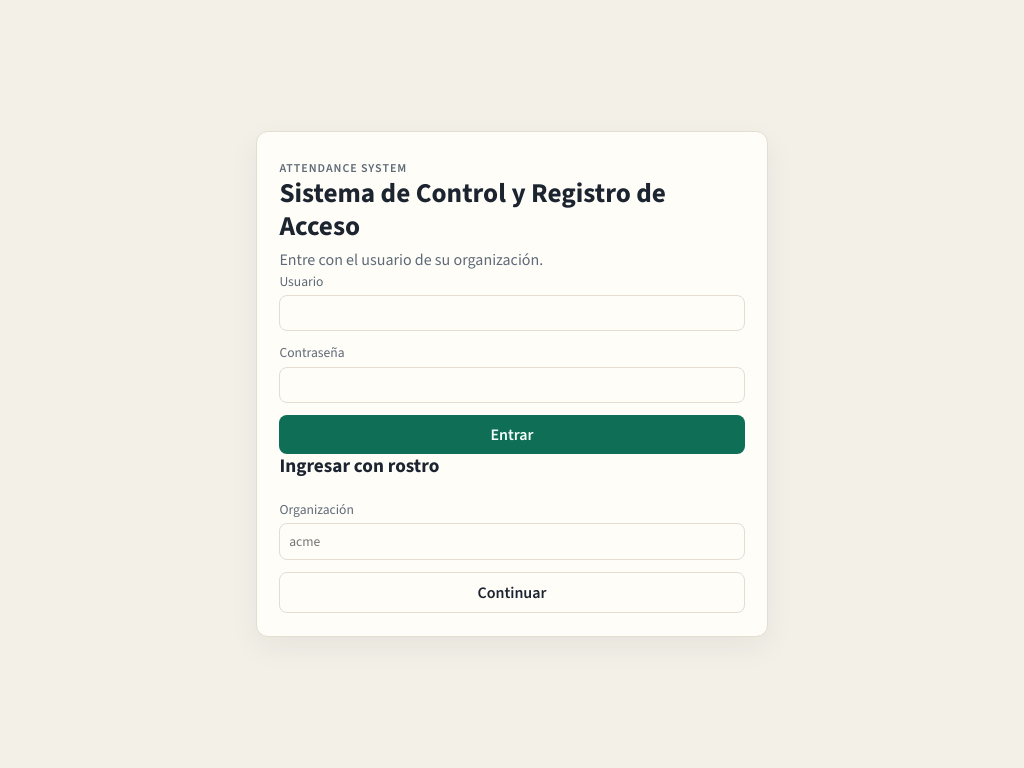
muestra el panel tras un ingreso válido
Type "acme.operator" into the field labelled "Usuario" at (512,313), box [279,295,745,331]
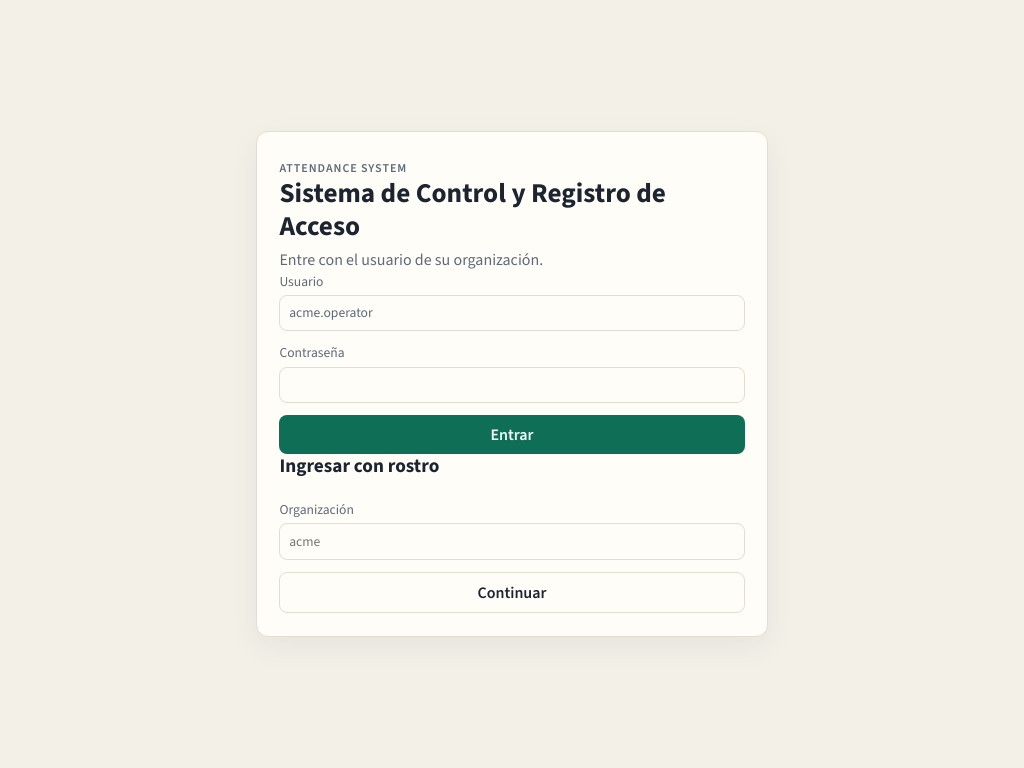
Type "secreta" into the password field labelled "Contraseña" at (512,385), box [279,367,745,403]
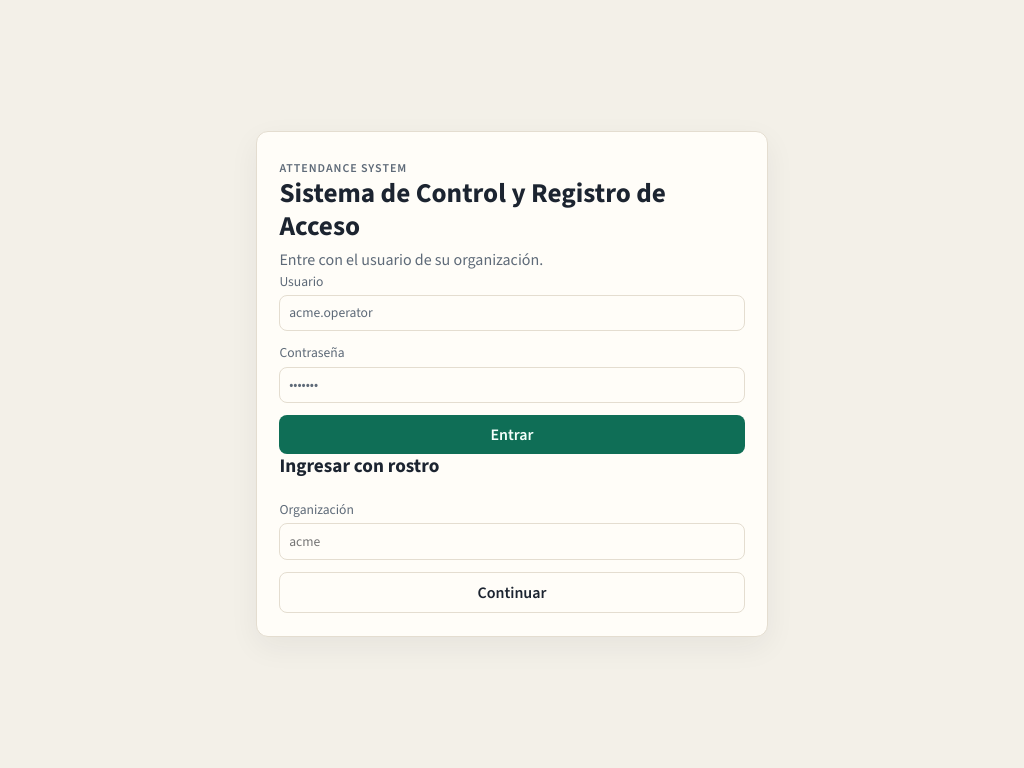
Click the button "Entrar" at (512,435), box [279,415,745,454]
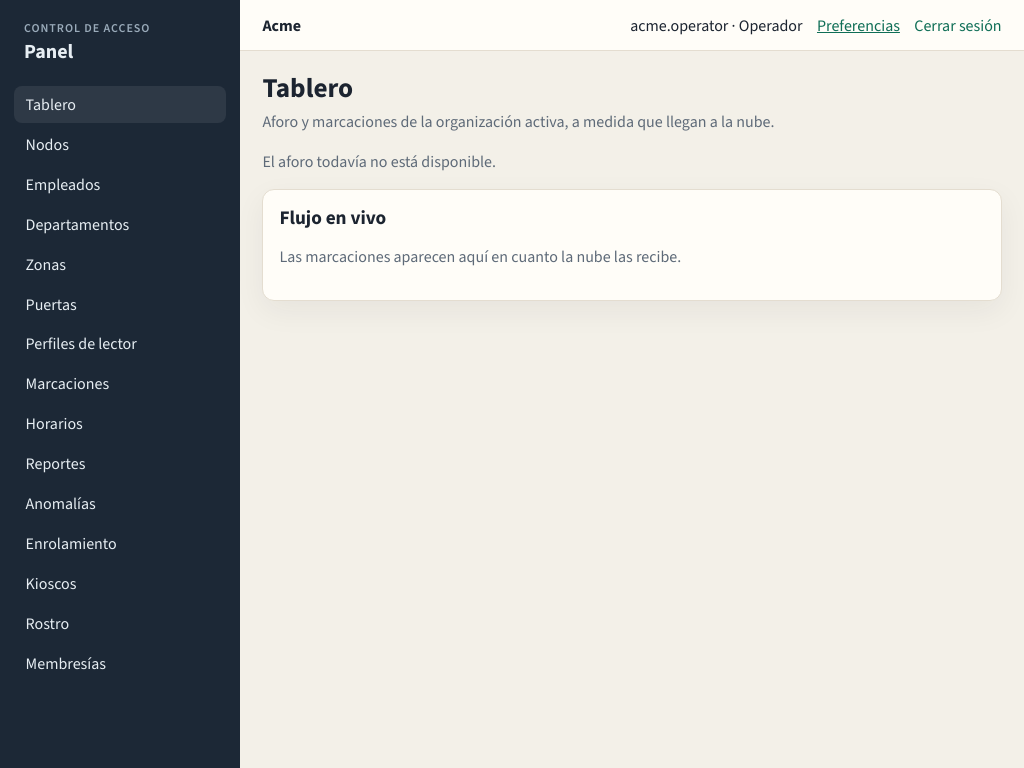
expect the heading "Tablero" is shown: met, box [262,70,353,106]
